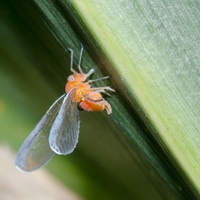insect: (16, 45, 114, 171)
